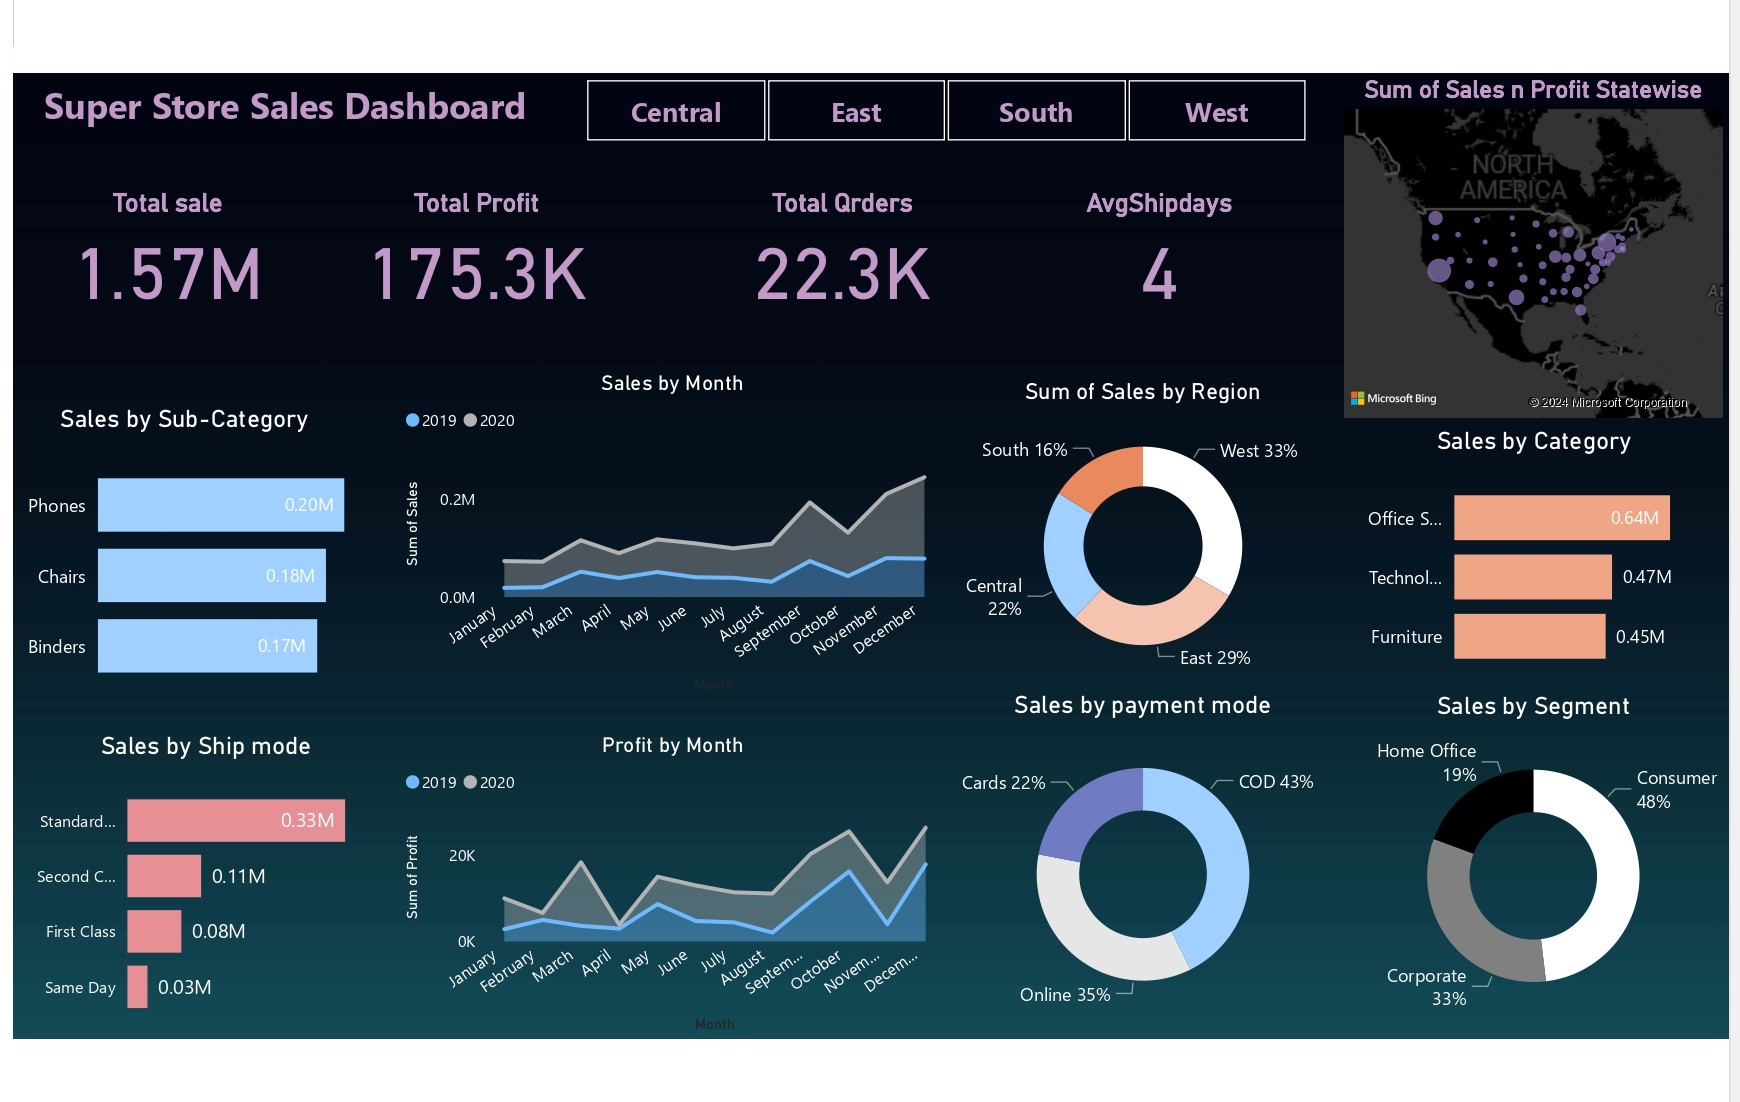

The page's visual inventory and layout, read from the dashboard file:
{"tool":"powerbi","page":{"name":"Page 1","canvas":[1280,720],"ordinal":0},"visuals":[{"type":"barChart","title":"Sales by Category","fields":{"Category":["SuperStore_Sales_Dataset.Category"],"Y":["Sum(SuperStore_Sales_Dataset.Sales)"]},"box":[988.9,262.9,290.7,197.8],"z":0},{"type":"barChart","title":"Sales by Sub-Category","fields":{"Category":["SuperStore_Sales_Dataset.Sub-Category"],"Y":["Sum(SuperStore_Sales_Dataset.Sales)"]},"box":[0,246.7,255.4,228],"z":1000},{"type":"barChart","title":"Sales by Ship mode","fields":{"Category":["SuperStore_Sales_Dataset.Ship Mode"],"Y":["Sum(SuperStore_Sales_Dataset.Sales)"]},"box":[0,490.5,287.1,229.4],"z":2000},{"type":"stackedAreaChart","title":" Sales by Month","fields":{"Category":["SuperStore_Sales_Dataset.Order Date.Variation.Date Hierarchy.Month","SuperStore_Sales_Dataset.Order Date.Variation.Date Hierarchy.Day"],"Y":["Sum(SuperStore_Sales_Dataset.Sales)"],"Series":["SuperStore_Sales_Dataset.Order Date.Variation.Date Hierarchy.Year"]},"box":[287,220.7,408.8,246],"z":3000},{"type":"stackedAreaChart","title":"Profit by Month","fields":{"Category":["SuperStore_Sales_Dataset.Order Date.Variation.Date Hierarchy.Month","SuperStore_Sales_Dataset.Order Date.Variation.Date Hierarchy.Day"],"Series":["SuperStore_Sales_Dataset.Order Date.Variation.Date Hierarchy.Year"],"Y":["Sum(SuperStore_Sales_Dataset.Profit)"]},"box":[287,490.9,410.1,229.1],"z":4000},{"type":"map","title":"Sum of Sales n Profit Statewise","fields":{"Category":["SuperStore_Sales_Dataset.State"],"Size":["Sum(SuperStore_Sales_Dataset.Sales)"]},"box":[987.7,1.2,291.9,260.5],"z":5000},{"type":"donutChart","title":"Sales by Segment","fields":{"Category":["SuperStore_Sales_Dataset.Segment"],"Y":["Sum(SuperStore_Sales_Dataset.Sales)"]},"box":[987.7,460.7,291.9,255.7],"z":6000},{"type":"donutChart","title":"Sales by payment mode","fields":{"Category":["SuperStore_Sales_Dataset.Payment Mode"],"Y":["Sum(SuperStore_Sales_Dataset.Sales)"]},"box":[696.9,460.2,291.4,255.4],"z":7000},{"type":"slicer","fields":{"Values":["SuperStore_Sales_Dataset.Region"]},"box":[404,0,584.3,54.8],"z":8000},{"type":"textbox","box":[18.1,0,385.9,53.1],"z":9000},{"type":"card","title":"Total sale","fields":{"Values":["Sum(SuperStore_Sales_Dataset.Sales)"]},"box":[18.8,85.1,191.9,92.3],"z":10000},{"type":"card","title":"Total Profit","fields":{"Values":["Sum(SuperStore_Sales_Dataset.Profit)"]},"box":[235.2,85.1,220.7,92.3],"z":11000},{"type":"card","title":"Total Qrders","fields":{"Values":["Sum(SuperStore_Sales_Dataset.Quantity)"]},"box":[503.5,85.1,229.4,92.3],"z":12000},{"type":"card","title":"AvgShipdays","fields":{"Values":["Avg(SuperStore_Sales_Dataset.Avgdeldate)"]},"box":[743,85.1,223.6,92.3],"z":13000},{"type":"donutChart","fields":{"Y":["Sum(SuperStore_Sales_Dataset.Sales)"],"Category":["SuperStore_Sales_Dataset.Region"]},"box":[696.9,226.5,291.4,233.7],"z":13001}]}

Visuals, with their boxes on the page's 1280x720 design canvas (x1, y1, x2, y2). These are canvas units, not pixel positions in the 1740x1102 screenshot, which may show the page scaled, cropped or inside an application window:
"Sales by Category" barChart: (989, 263, 1280, 461)
"Sales by Sub-Category" barChart: (0, 247, 255, 475)
"Sales by Ship mode" barChart: (0, 490, 287, 720)
" Sales by Month" stackedAreaChart: (287, 221, 696, 467)
"Profit by Month" stackedAreaChart: (287, 491, 697, 720)
"Sum of Sales n Profit Statewise" map: (988, 1, 1280, 262)
"Sales by Segment" donutChart: (988, 461, 1280, 716)
"Sales by payment mode" donutChart: (697, 460, 988, 716)
slicer - SuperStore_Sales_Dataset.Region: (404, 0, 988, 55)
textbox: (18, 0, 404, 53)
"Total sale" card: (19, 85, 211, 177)
"Total Profit" card: (235, 85, 456, 177)
"Total Qrders" card: (504, 85, 733, 177)
"AvgShipdays" card: (743, 85, 967, 177)
donutChart - Sum(SuperStore_Sales_Dataset.Sales) x SuperStore_Sales_Dataset.Region: (697, 226, 988, 460)
